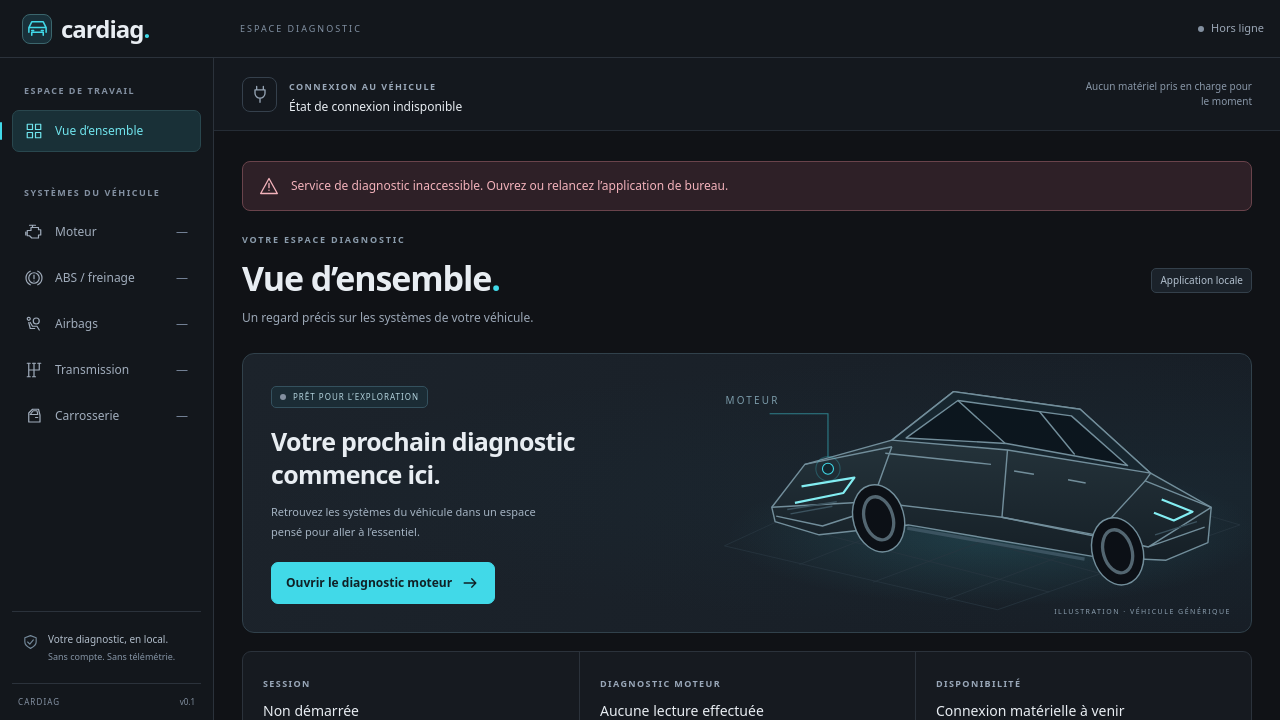
Scenario: parcours de diagnostic simulé › signale le service absent dans un navigateur
Expected: the 2nd message shows "Service de diagnostic inaccessible", x1=291 y1=177 x2=728 y2=194
Click the button "Moteur —" at (106, 232), box x1=12 y1=211 x2=201 y2=253
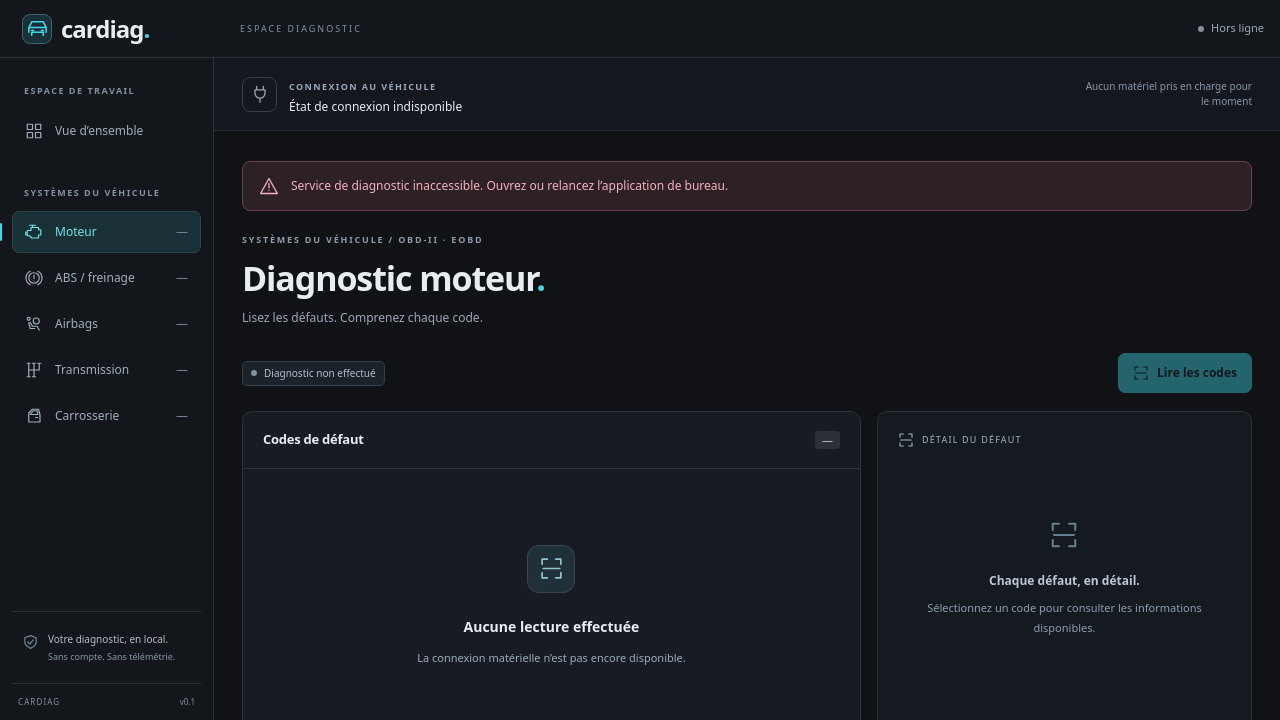
Expected: the button "Lire les codes" is disabled, x1=1118 y1=353 x2=1252 y2=393
